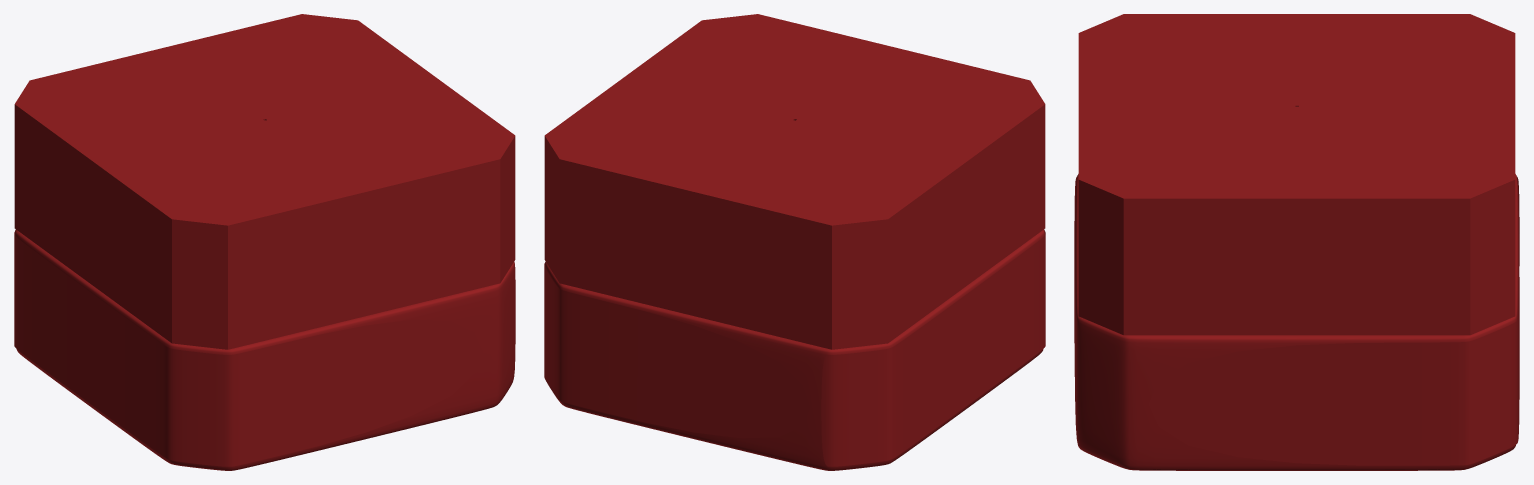
The model's file is ringbox.fbx.
3 renders of one model, left to right at view 1: azimuth 30°, elevation 25°; view 2: azimuth 150°, elevation 25°; view 3: azimuth 270°, elevation 25°, orthographic. The views are drawn at different scales.
Parts seen in each view (by area): view 1: Lid, Box; view 2: Lid, Box; view 3: Lid, Box.
Part boxes in pixels (x1,y1,x2,y2): Lid: [14, 14, 515, 349]; Box: [14, 229, 515, 470]; Lid: [544, 14, 1045, 349]; Box: [544, 229, 1045, 470]; Lid: [1078, 14, 1515, 335]; Box: [1074, 174, 1519, 470].
Bounding box in the file's own units: 4.43 × 3.01 × 4.43.
